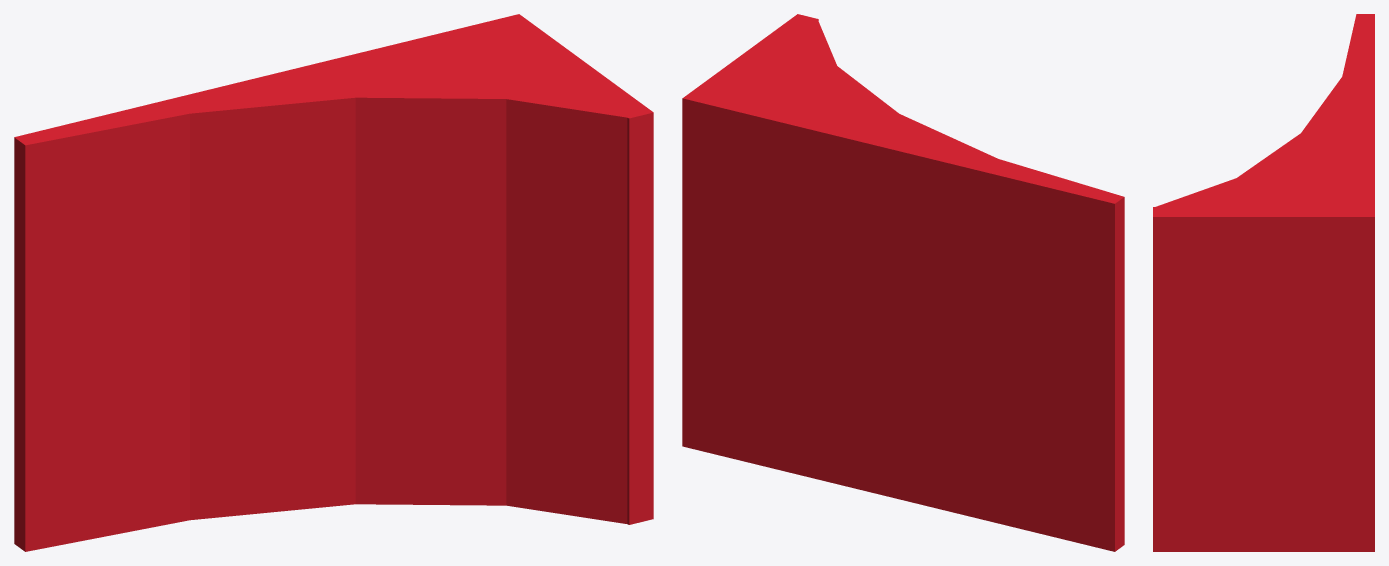
File: tinker.obj
The picture shows the model from 3 angles, left to right: view 1: azimuth 30°, elevation 25°; view 2: azimuth 150°, elevation 25°; view 3: azimuth 270°, elevation 25°; orthographic projection. The views are drawn at different scales.
Visible parts, largest first — view 1: obj_0; view 2: obj_0; view 3: obj_0.
Boxes of the visible parts, <box> form: obj_0: <box>14,14,653,551</box>; obj_0: <box>682,14,1124,551</box>; obj_0: <box>1153,14,1374,551</box>.
Size of the model in its own units: 26 by 20 by 12.
